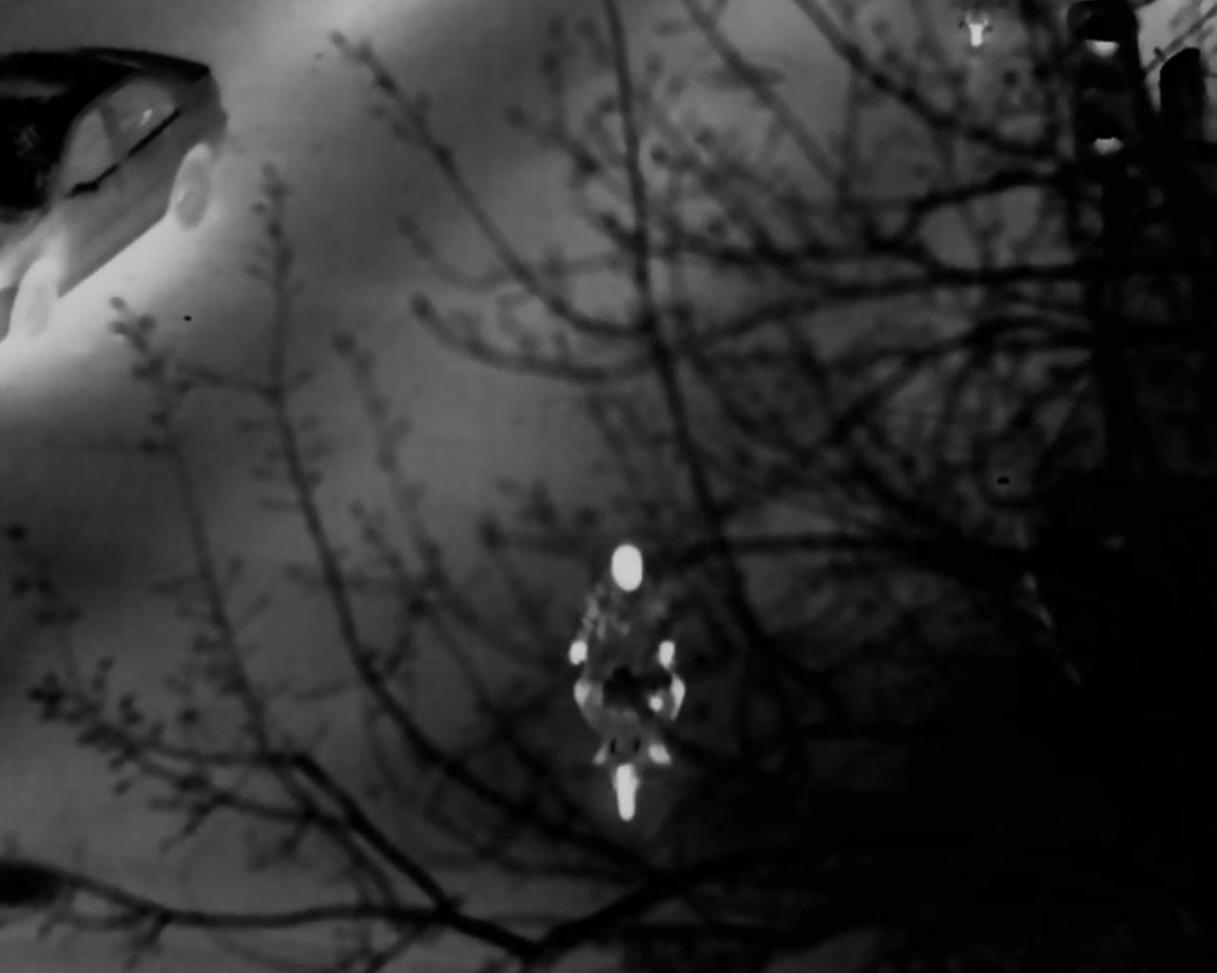person: (576, 529, 680, 812)
